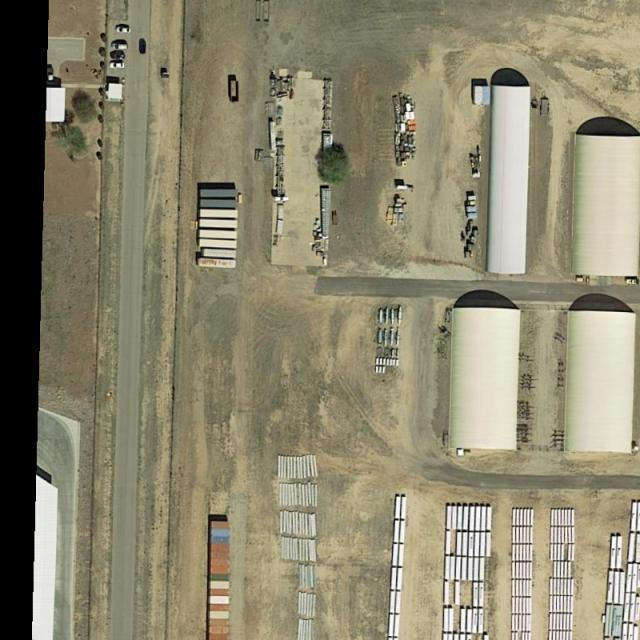vehicle: (116, 26, 131, 34), (112, 42, 127, 50), (111, 53, 125, 61), (140, 39, 146, 54), (110, 63, 125, 69)
